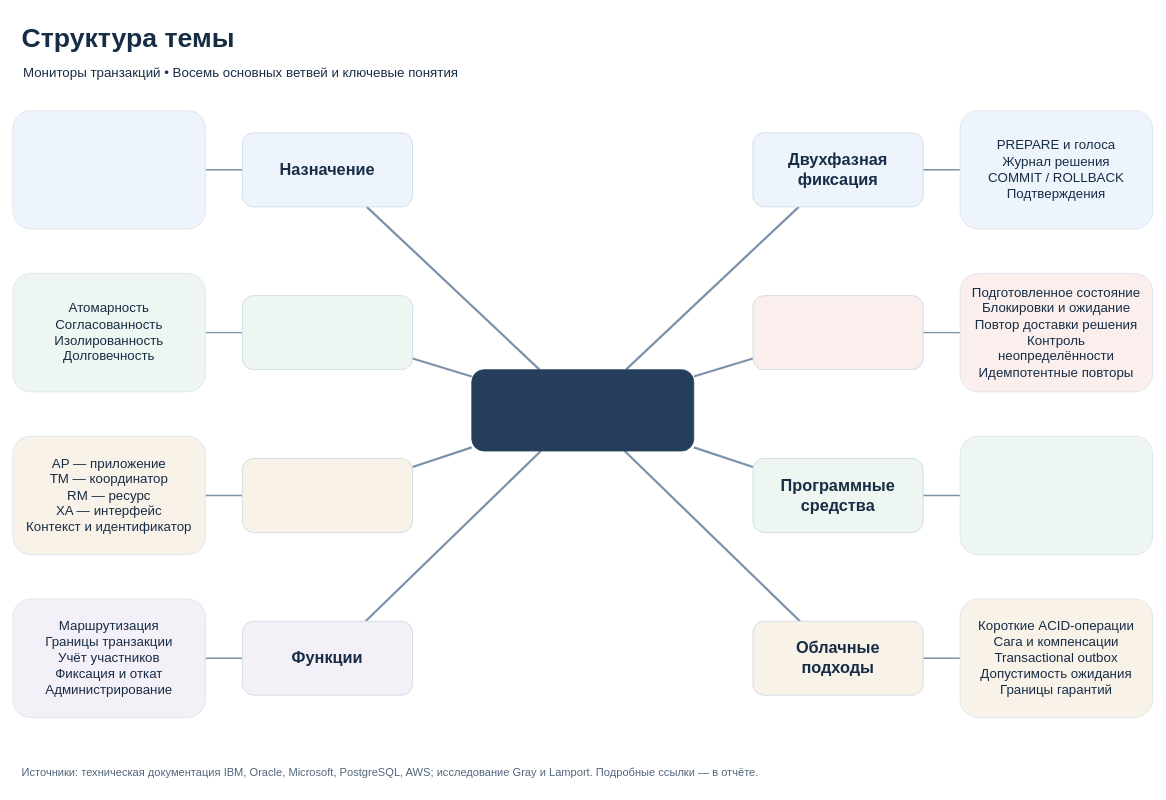
The diagram is 1166 pixels wide and 800 high, and some of its shapes have lost their labels. The shapes that lost their labels are listed below. From the top down, each one's centre as x and y in pixels, then its label:
At (x=108, y=169): "Обработка запросов Согласованный результат Целостность данных Промежуточное ПО".
At (x=327, y=332): "Свойства ACID".
At (x=837, y=332): "Восстановление".
At (x=582, y=410): "Мониторы транзакций".
At (x=327, y=495): "Архитектура".
At (x=1056, y=495): "Oracle Tuxedo IBM CICS Microsoft DTC Различие ролей и масштаба".
